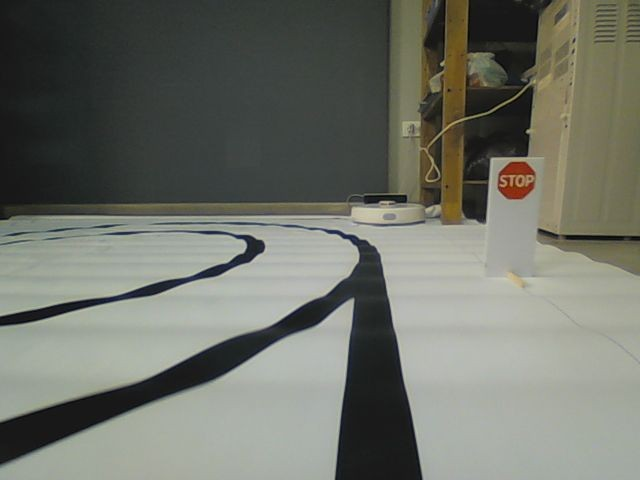Stop: (496, 160, 536, 201)
